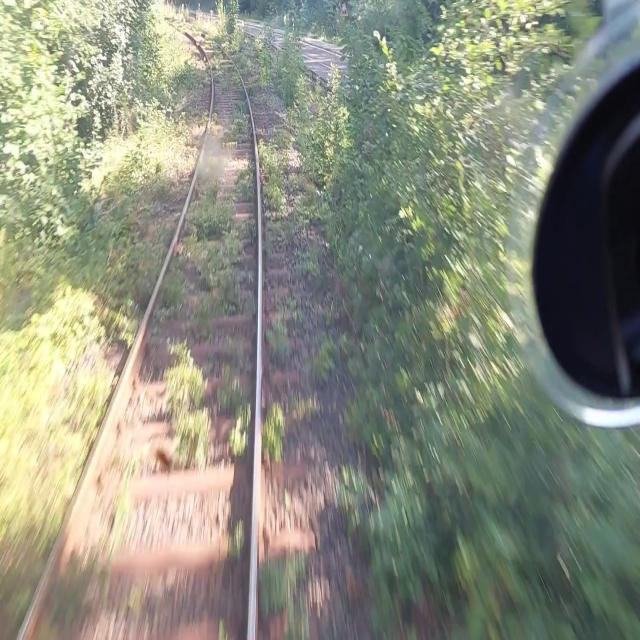Plant: (0, 354, 121, 639), (90, 213, 181, 351), (176, 168, 255, 315), (163, 330, 214, 475), (203, 33, 253, 162), (94, 462, 138, 604), (192, 19, 267, 97), (259, 546, 313, 639), (157, 107, 209, 200), (214, 363, 253, 460), (257, 126, 293, 223), (265, 295, 303, 367), (262, 403, 289, 460), (162, 266, 189, 315), (192, 291, 212, 342), (235, 158, 257, 203), (265, 216, 295, 244), (286, 389, 308, 420), (194, 62, 211, 89), (234, 518, 244, 561), (216, 616, 233, 639), (263, 239, 269, 293), (296, 249, 301, 277)
